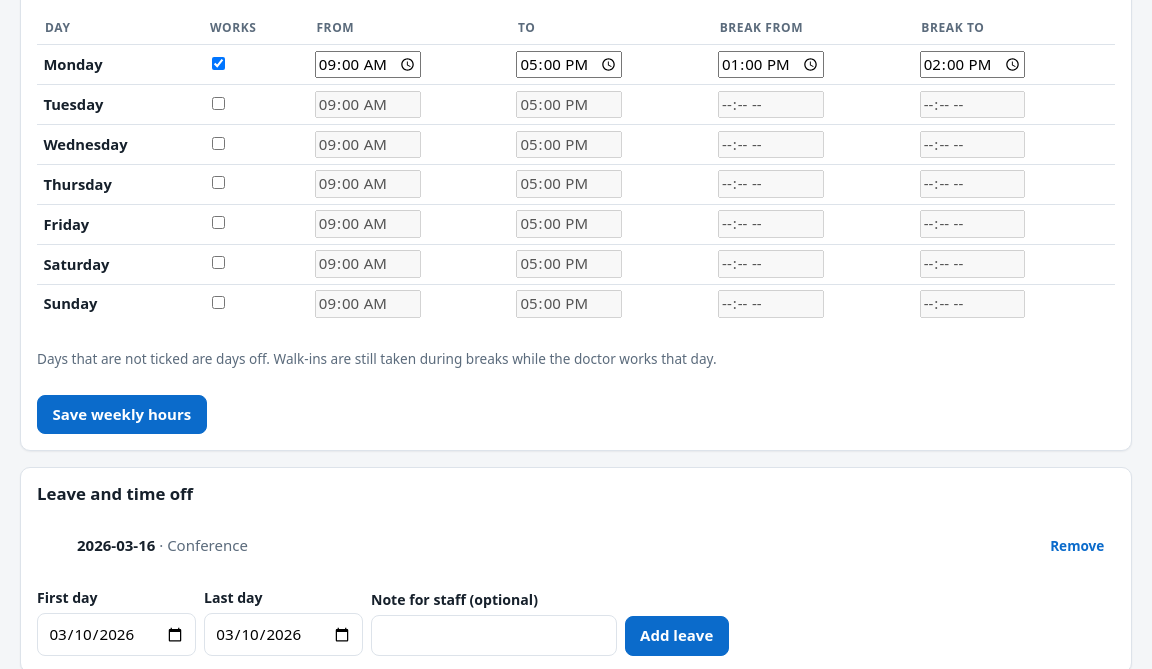
Test: ScheduleEditor › adds whole days of leave and says how many bookings need moving
(page scrolled)
Type "2026-03-20" into the date field labelled "First day" at (116, 634), box [37,612,196,656]
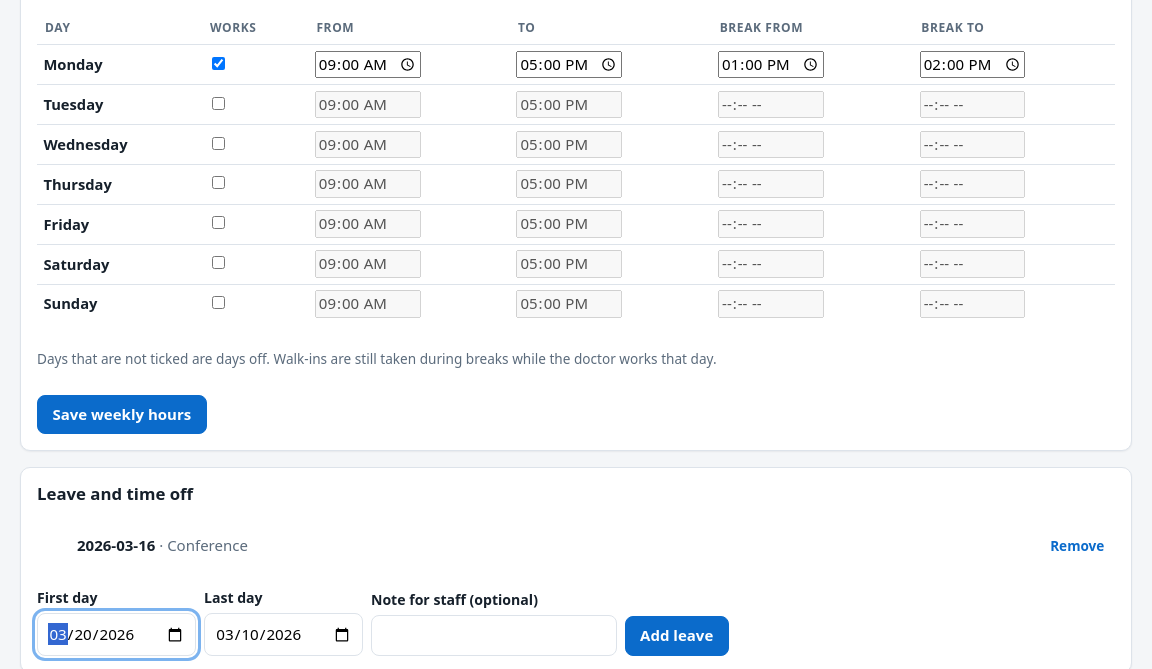
Type "2026-03-21" into the date field labelled "Last day" at (284, 634), box [204,612,363,656]
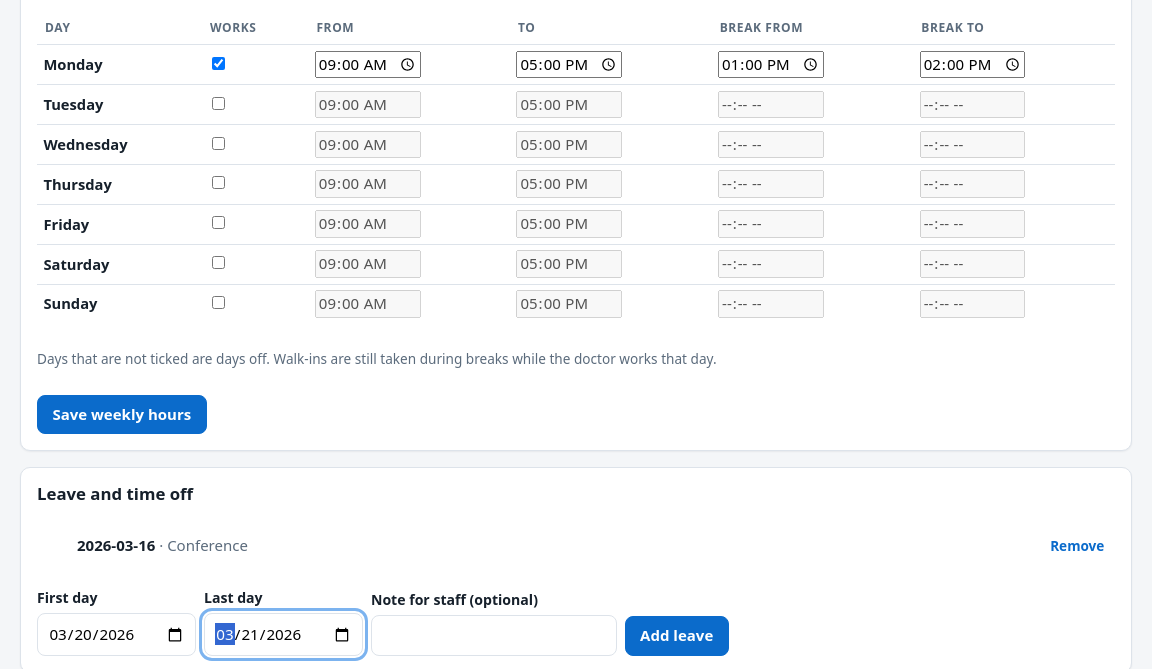
Click the button "Add leave" at (677, 636), box [625,616,729,656]
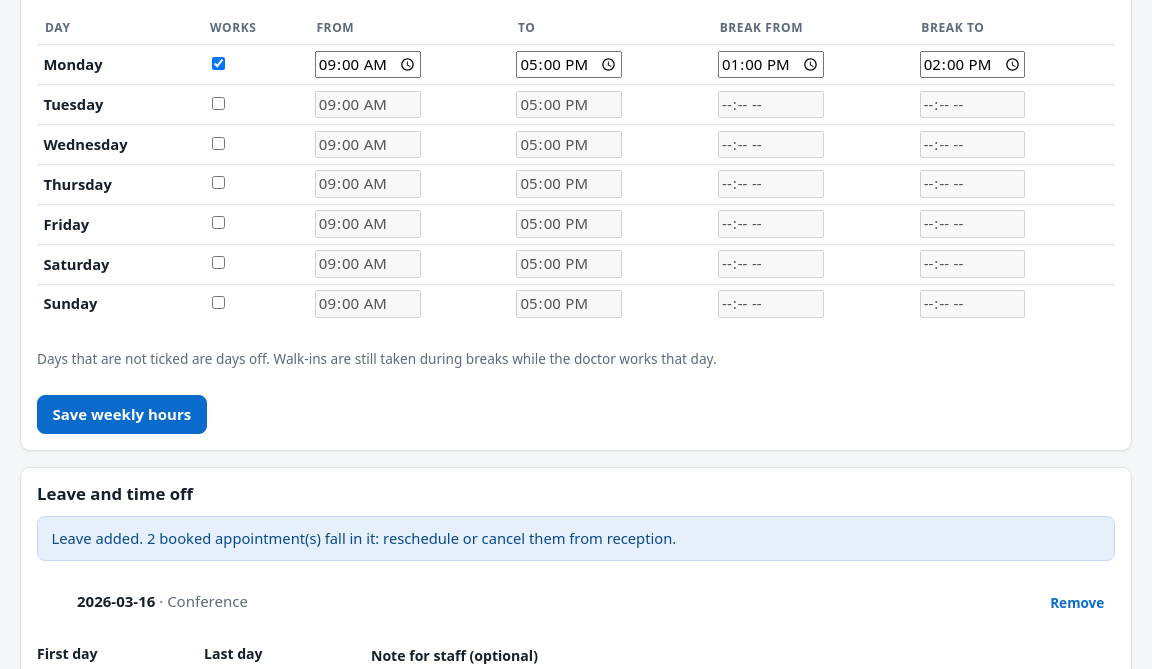
Check: the text "2 booked appointment(s) fall in it" is shown, box [52,528,676,548]
